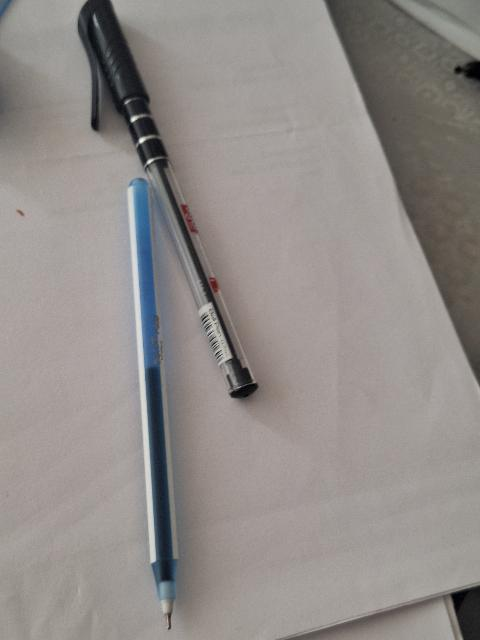writing_tool: (67, 5, 261, 406), (120, 174, 191, 632)
